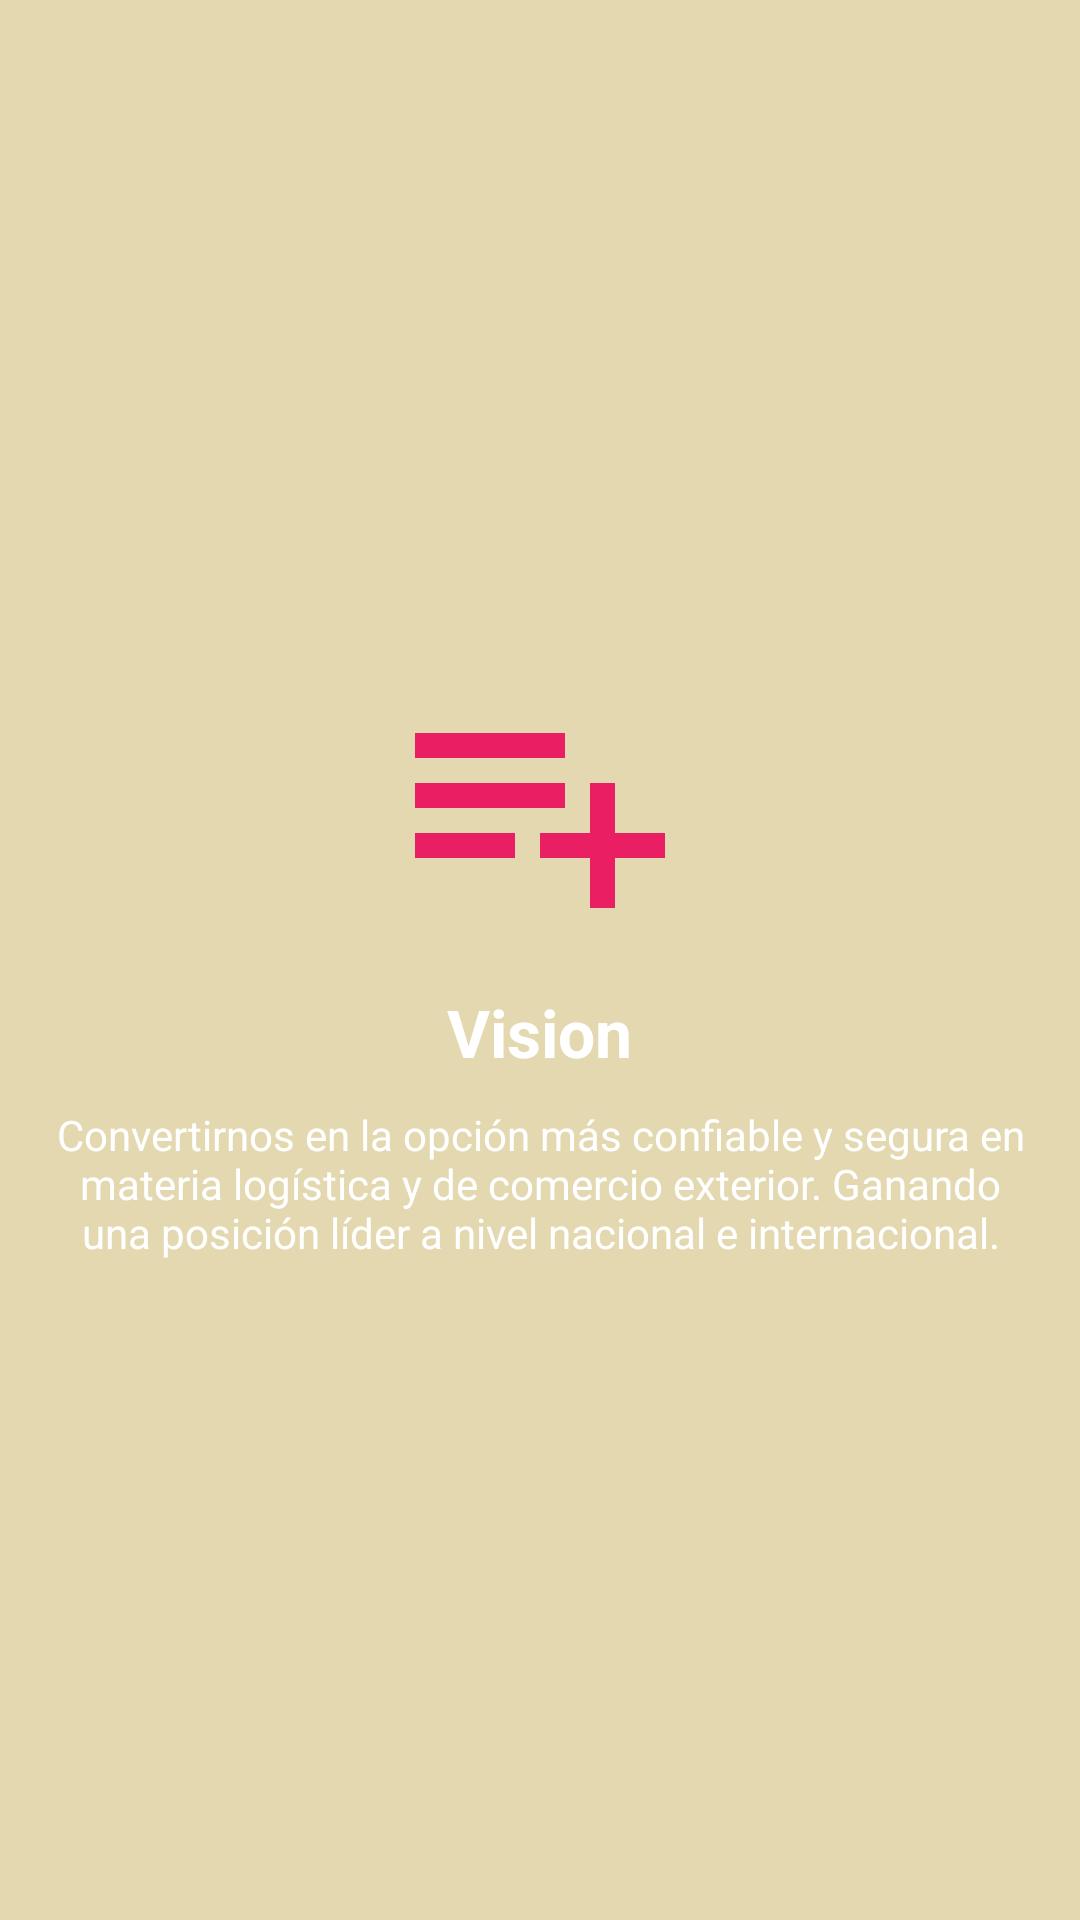

Screen size 1080x1920. Icon name, then its box in pixels as (x1, y1, x2, y2):
playlist add: (415, 733, 665, 908)
